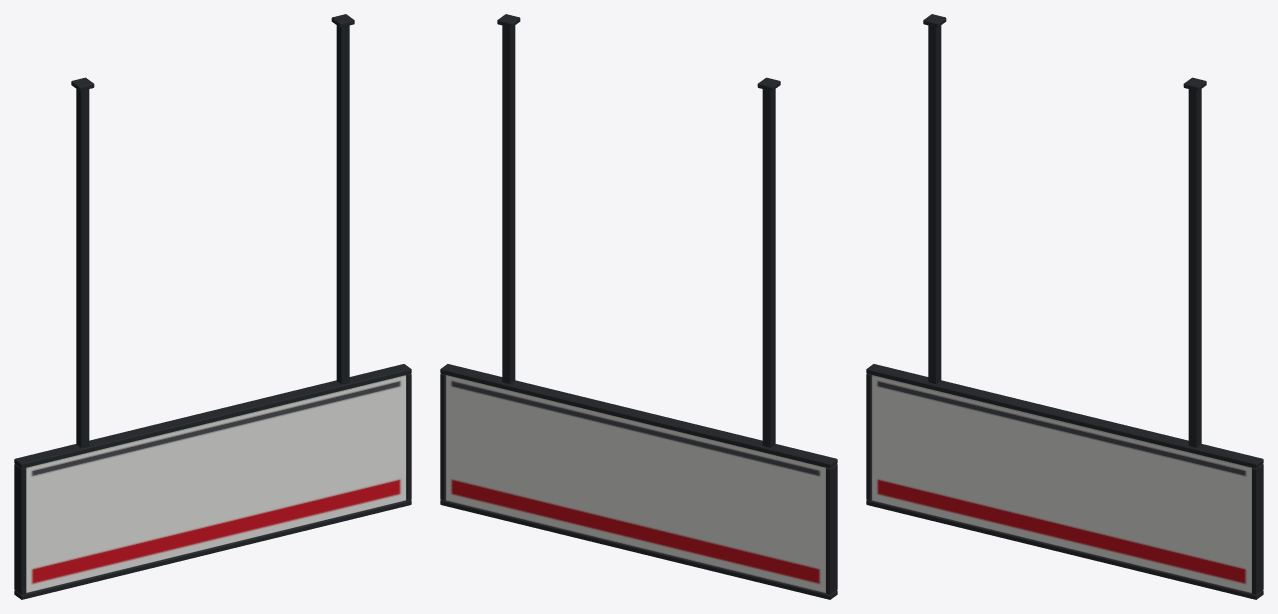
File: sign_hang_tokyu.fbx
3 views of the same model, side by side, from view 1: azimuth 30°, elevation 25°; view 2: azimuth 150°, elevation 25°; view 3: azimuth 330°, elevation 25° (orthographic).
Parts seen in each view (by area): view 1: sign_hang_tokyu; view 2: sign_hang_tokyu; view 3: sign_hang_tokyu.
Part boxes in pixels (<box>): sign_hang_tokyu: <box>14,14,411,599</box>; sign_hang_tokyu: <box>440,14,837,599</box>; sign_hang_tokyu: <box>866,14,1263,599</box>.
Bounding box in the file's own units: 1.8 × 0.07 × 2.2.
Materials: 1 (1 with a texture image).
